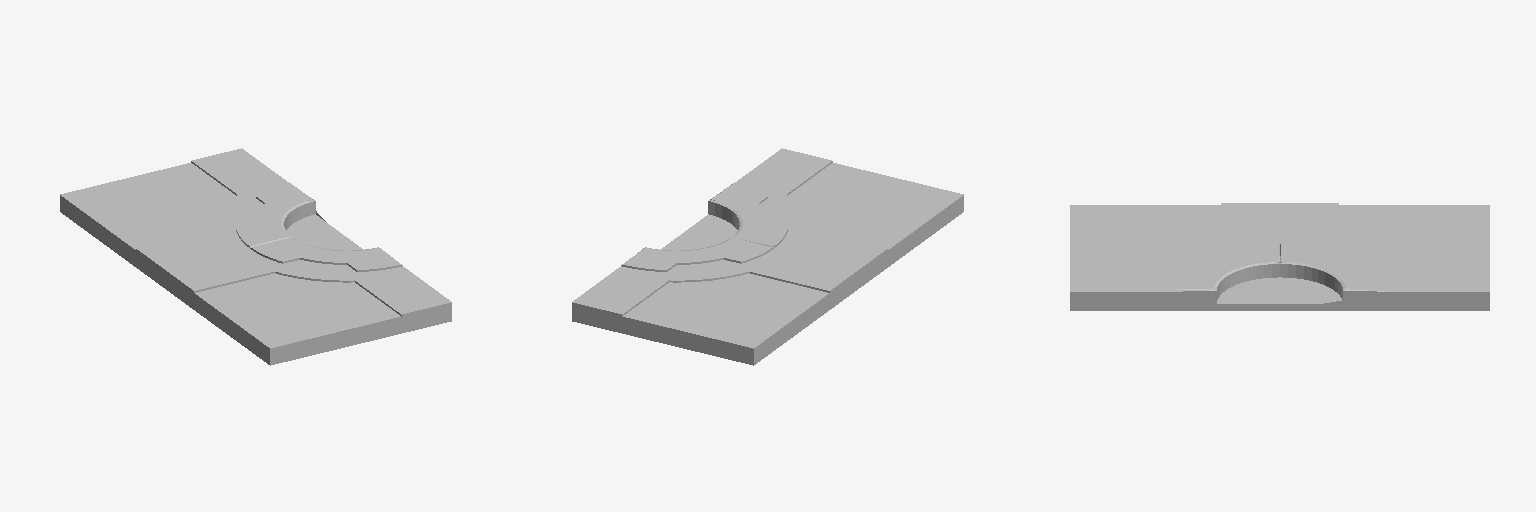
File: DoorZero_mid.obj
3 views of the same model, side by side, from view 1: azimuth 30°, elevation 25°; view 2: azimuth 150°, elevation 25°; view 3: azimuth 270°, elevation 25° (orthographic).
Parts seen in each view (by area): view 1: doorsub_mid_Cube.012; view 2: doorsub_mid_Cube.012; view 3: doorsub_mid_Cube.012.
Part boxes in pixels (left/top/right/bottom): doorsub_mid_Cube.012: left=60, top=148, right=451, bottom=365; doorsub_mid_Cube.012: left=572, top=148, right=963, bottom=365; doorsub_mid_Cube.012: left=1070, top=203, right=1489, bottom=310.
Bounding box in the file's own units: 0.2 × 0.0221 × 0.4.